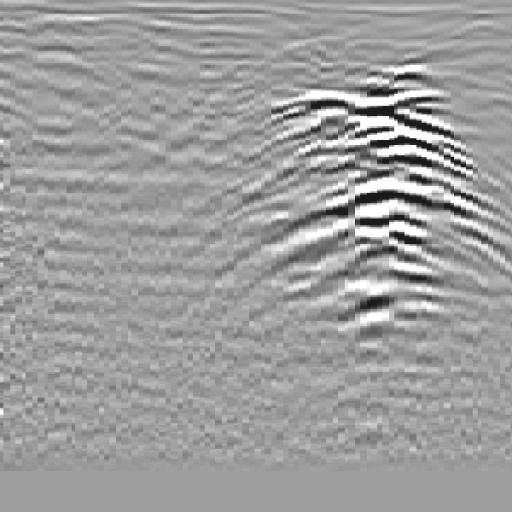metalic: (249, 33, 504, 396)
